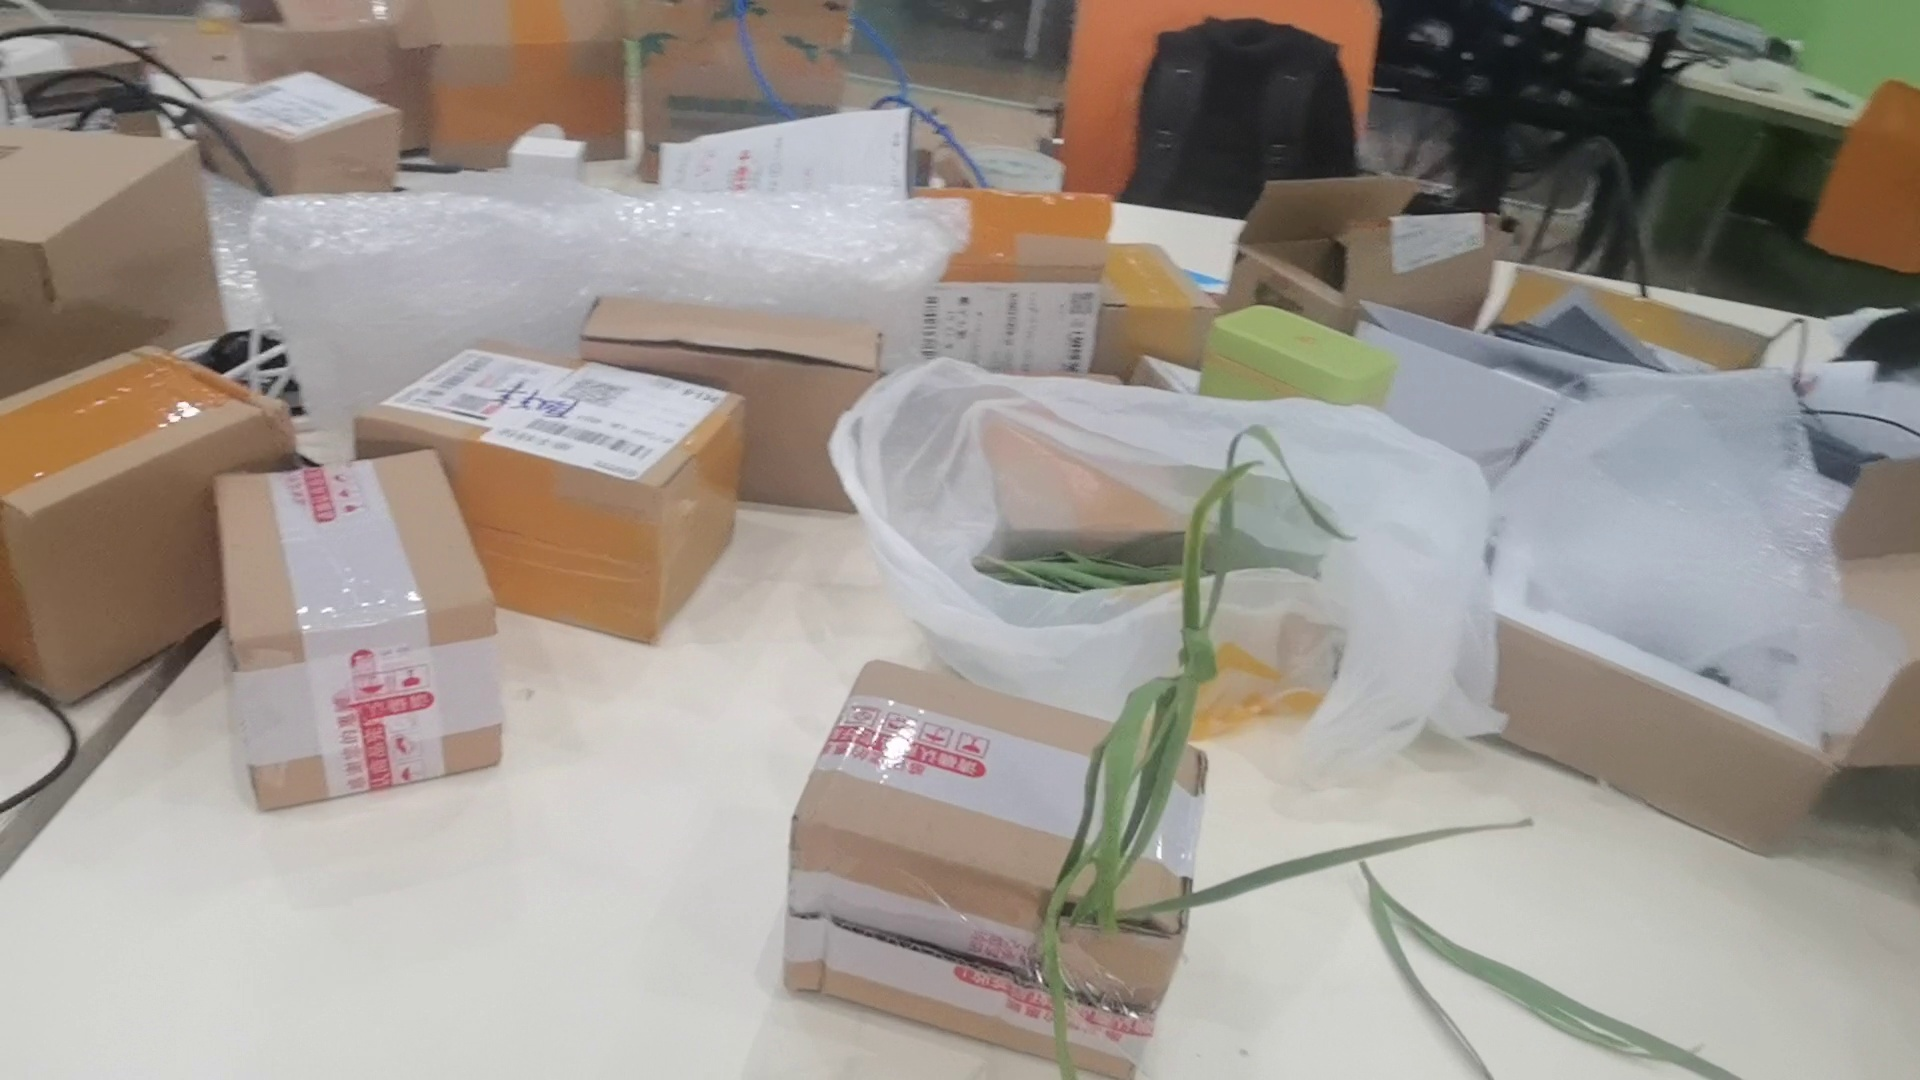chives: (945, 378, 1547, 1080), (1352, 851, 1789, 1080)
